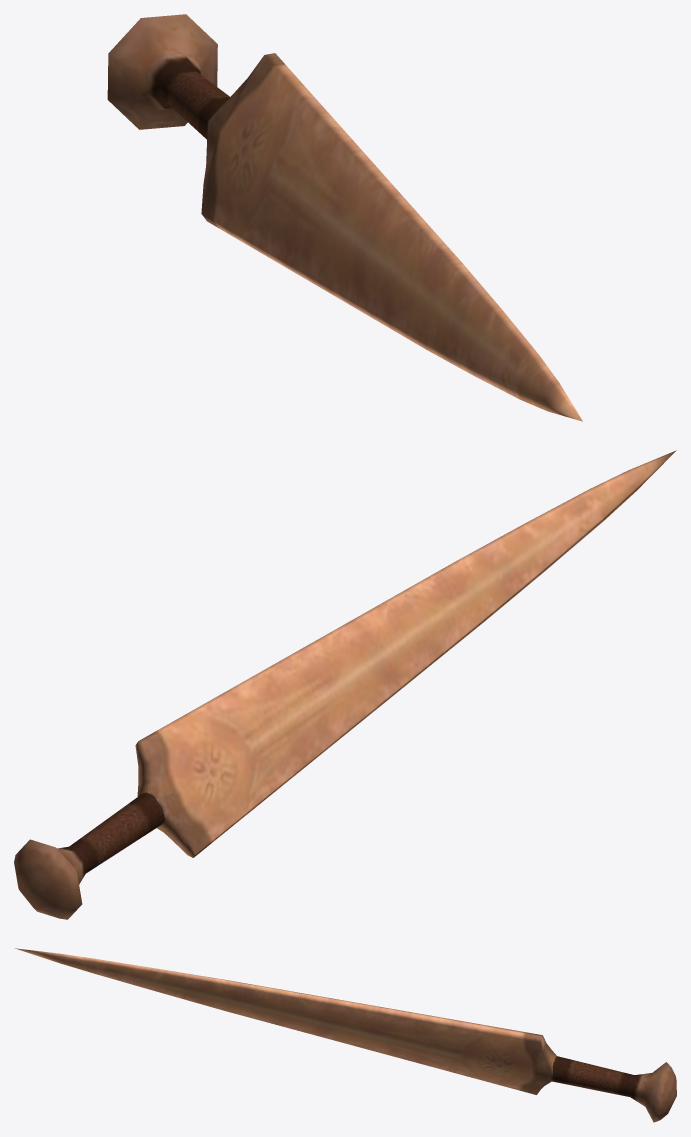
The model's file is rider-weapon-slice-ironweapons.glb.
The picture shows the model from 3 angles, top to bottom: view 1: azimuth 30°, elevation 25°; view 2: azimuth 150°, elevation 25°; view 3: azimuth 270°, elevation 25°; orthographic projection. The views are drawn at different scales.
Size of the model in its own units: 0.2594 by 0.2076 by 1.08.
Materials: 1 (1 with a texture image).
